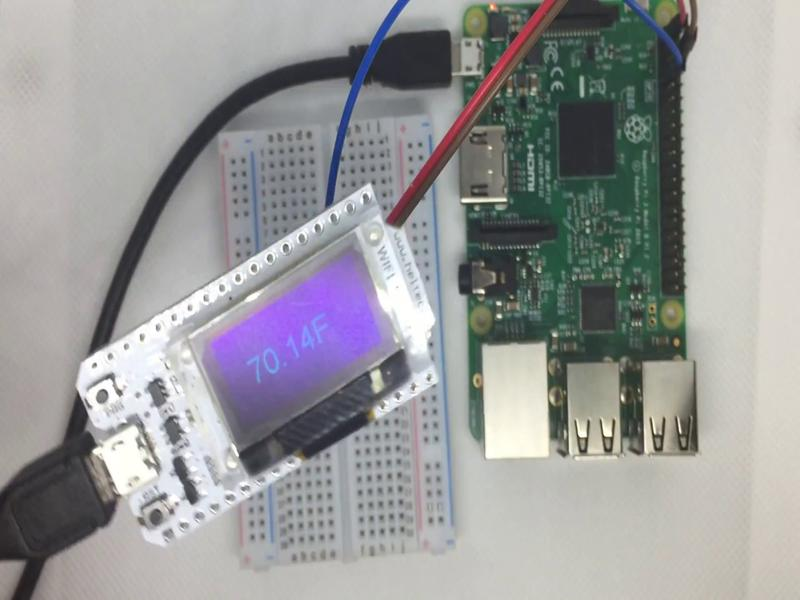Heltec_ESP32_Lora: (73, 180, 430, 549)
